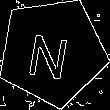N_N: (28, 24, 77, 80)
